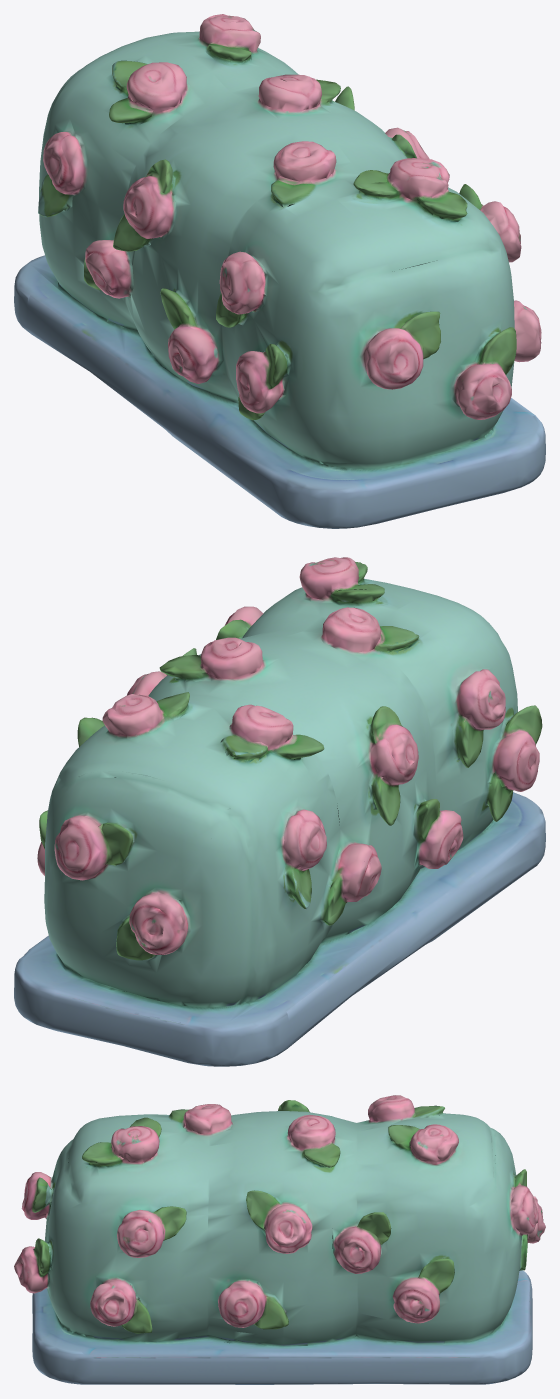
The picture shows the model from 3 angles, top to bottom: view 1: azimuth 30°, elevation 25°; view 2: azimuth 150°, elevation 25°; view 3: azimuth 270°, elevation 25°; orthographic projection. The views are drawn at different scales.
Visible parts, largest first — view 1: repaired; view 2: repaired; view 3: repaired.
Boxes of the visible parts, bbox=[...] form: repaired: bbox=[14, 14, 545, 528]; repaired: bbox=[14, 557, 545, 1066]; repaired: bbox=[14, 1095, 545, 1384].
Bounding box in the file's own units: 0.4986 × 0.4732 × 0.9984.
1 material, 1 textured.
